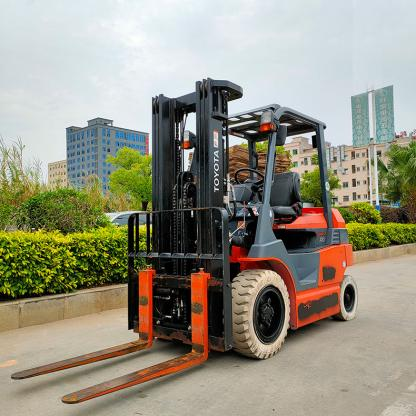forklift: (126, 77, 358, 361)
